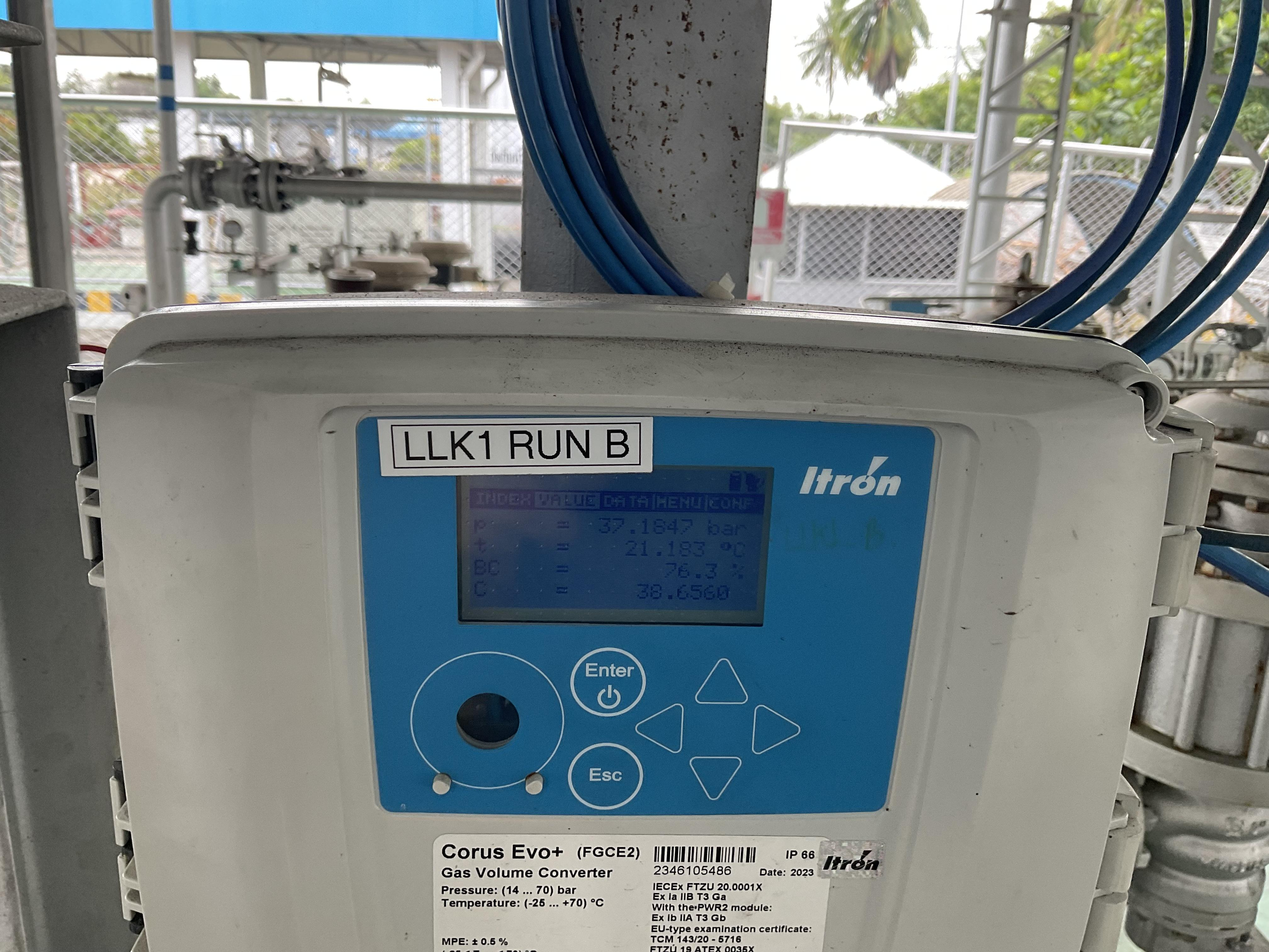digital_screen: (457, 464, 775, 626)
